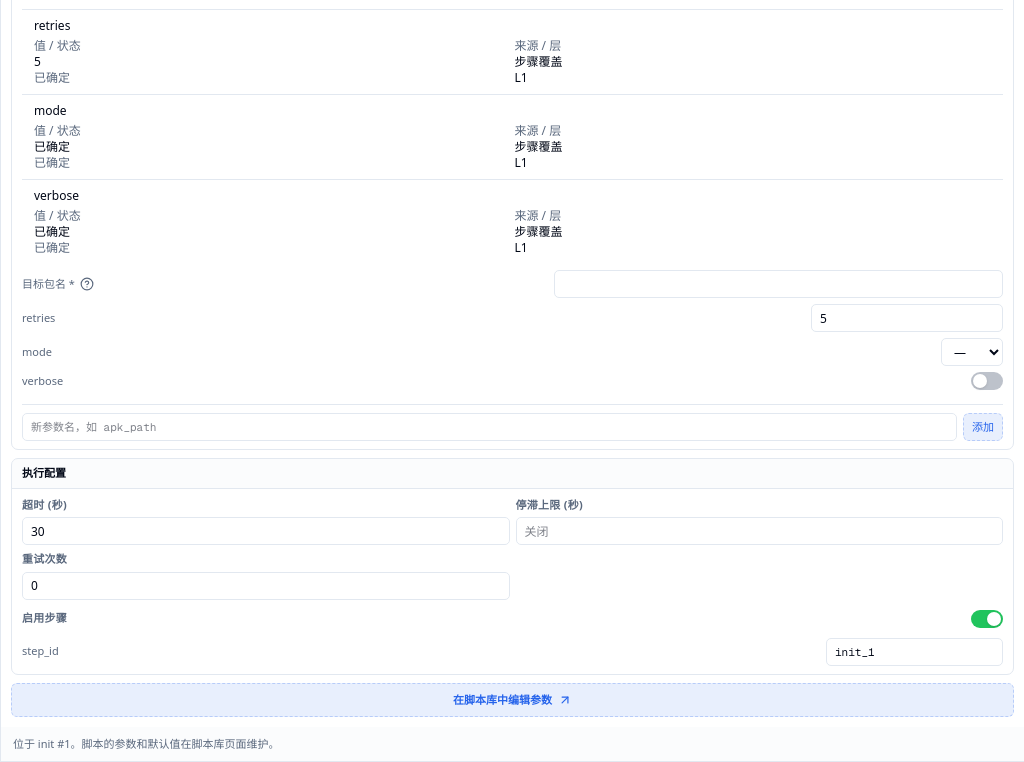
Test: PlanStepInspector › 执行配置 › 启用开关在 enabled 缺省时视为已启用
The width and height of the screenshot is (1024, 762).
(page scrolled)
Click the button named "禁用步骤": x=987, y=618 [971,610,1003,628]
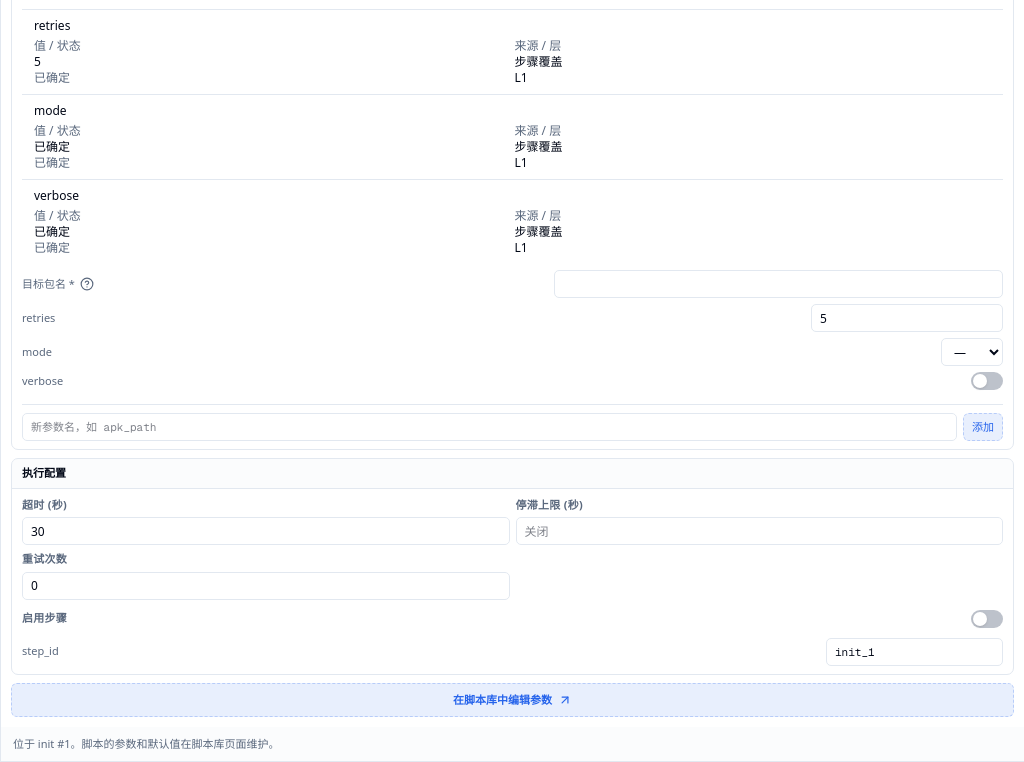
Expected: the button named "启用步骤" is shown, [971,610,1003,628]
